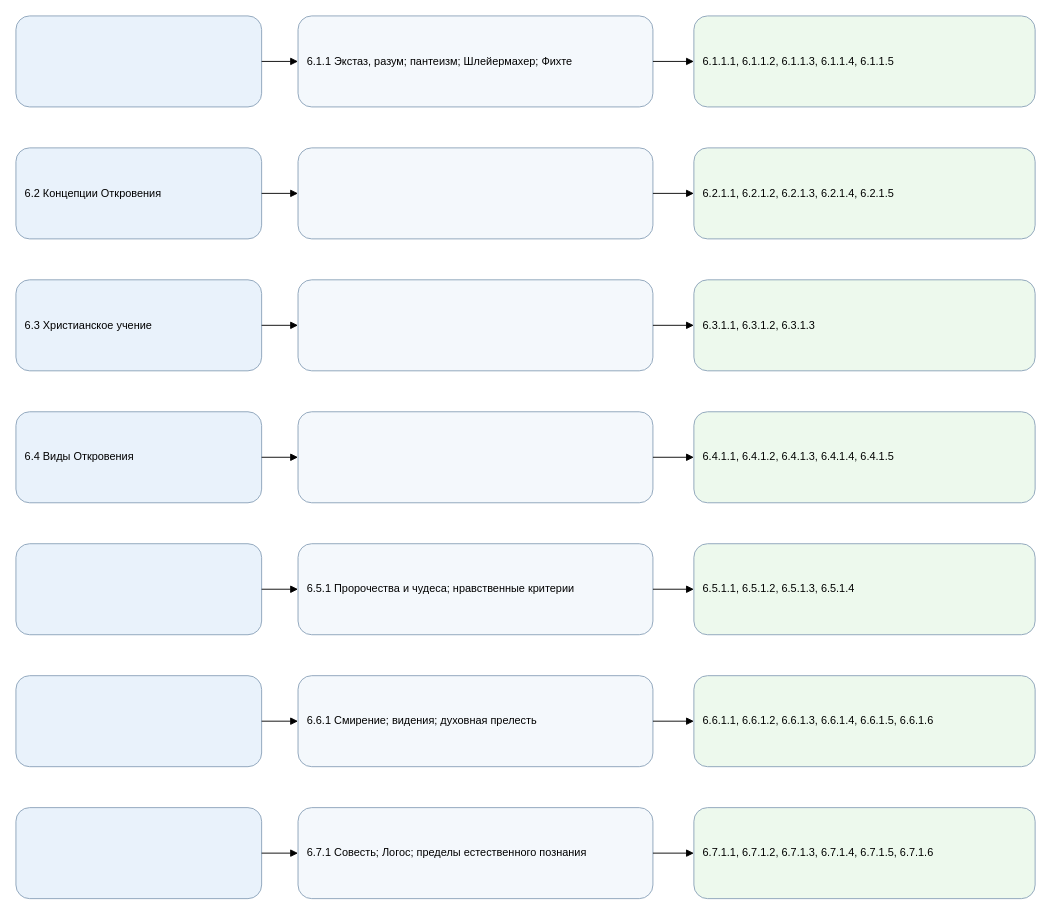
This 1051x915 diagram has some shape labels left out. The centre of each missing label's shape, as x and y in pixels:
6.1 Философское понятие: the point at 138,61
6.2.1 Шеллинг; Хомяков; философское осмысление: the point at 475,193
6.3.1 Бог как источник; Христос; спасительная истина: the point at 475,325
6.4.1 Общее, индивидуальное и естественное познание: the point at 475,457
6.5 Общее Откровение: the point at 138,589
6.6 Индивидуальное Откровение: the point at 138,721
6.7 Естественное богопознание: the point at 138,853
